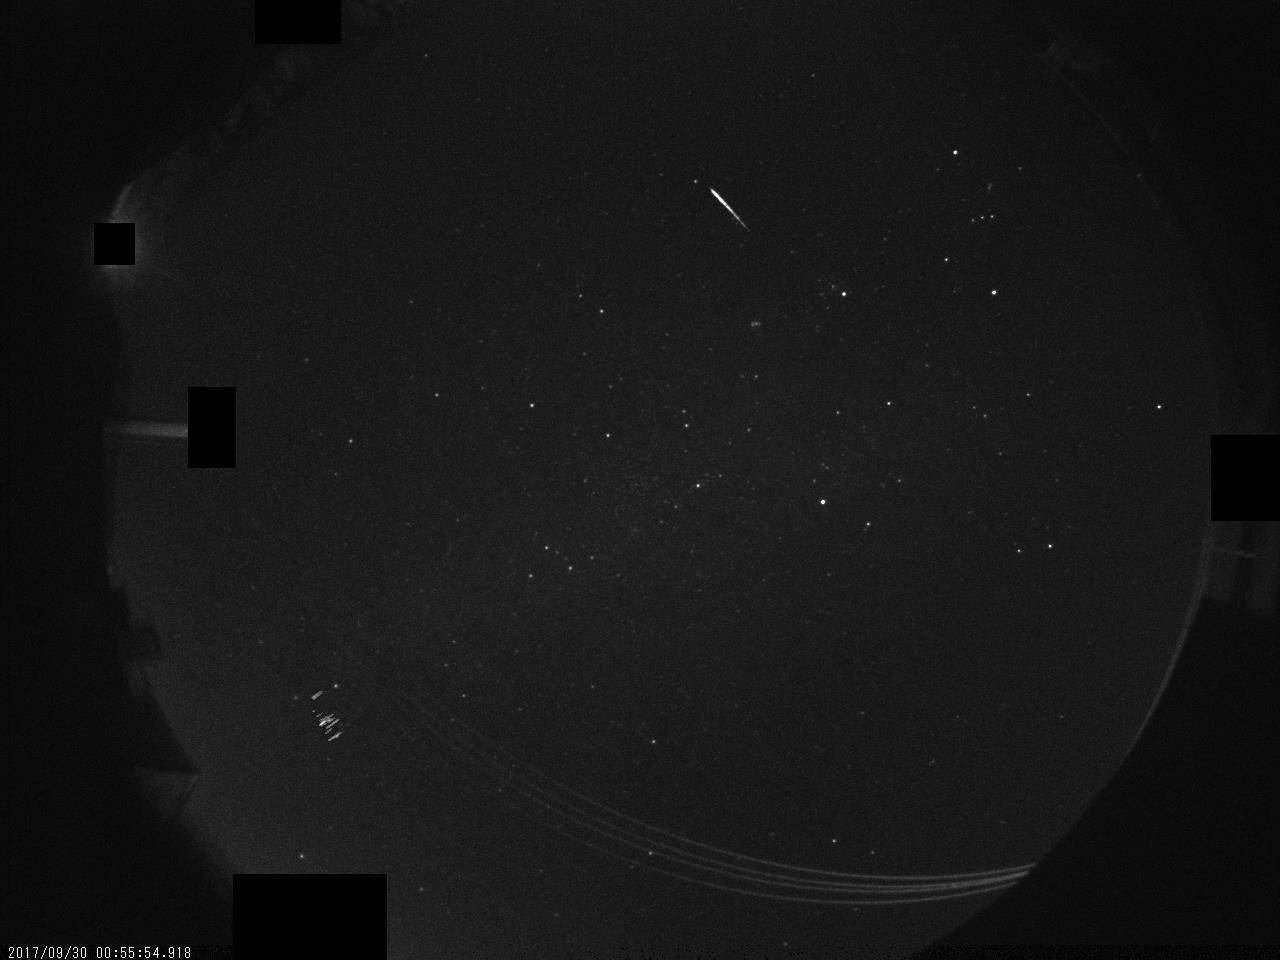TLE: (299, 683, 360, 756)
